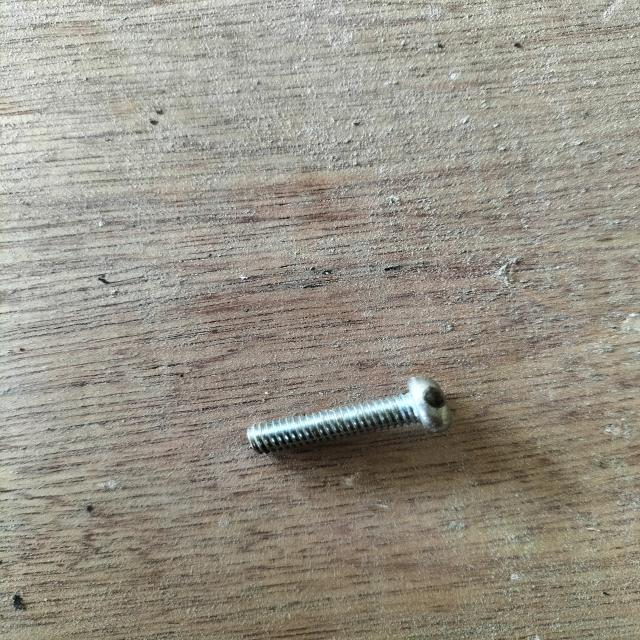bolt: (248, 377, 452, 455)
